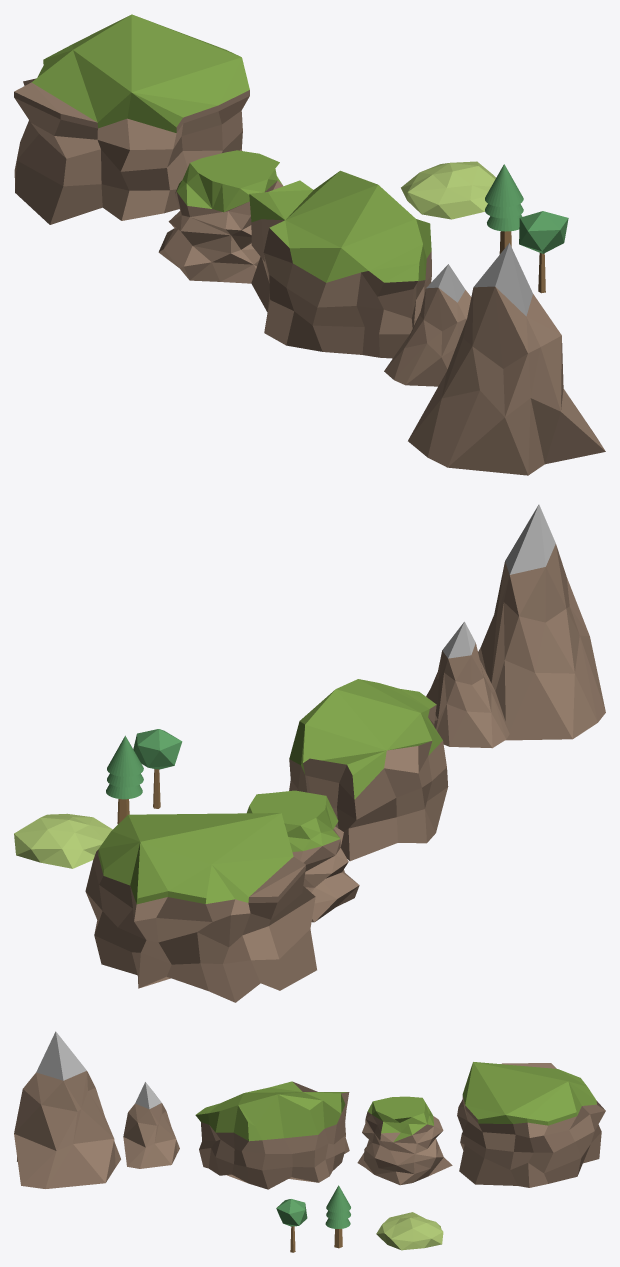
File: bukit aset pisah.fbx
3 views of the same model, one above another, from view 1: azimuth 30°, elevation 25°; view 2: azimuth 150°, elevation 25°; view 3: azimuth 270°, elevation 25° (orthographic). The views are drawn at different scales.
Visible parts, largest first — view 1: Plane.002, Plane, mini gunung, gunung 2, mini gunung.001, Icosphere.001, Cone.003, pohon; view 2: Plane.002, Plane, mini gunung, gunung 2, mini gunung.001, Icosphere.001, Cone.003, pohon; view 3: Plane.002, Plane, mini gunung, gunung 2, mini gunung.001, Icosphere.001, Cone.003, pohon.
Boxes of the visible parts, left/top/right/bottom form: Plane.002: left=14, top=14, right=249, bottom=224; Plane: left=249, top=170, right=431, bottom=358; mini gunung: left=408, top=243, right=605, bottom=475; gunung 2: left=158, top=150, right=283, bottom=283; mini gunung.001: left=384, top=264, right=471, bottom=386; Icosphere.001: left=401, top=161, right=495, bottom=219; Cone.003: left=485, top=164, right=523, bottom=254; pohon: left=519, top=211, right=568, bottom=293; Plane.002: left=85, top=813, right=316, bottom=1002; Plane: left=289, top=679, right=448, bottom=861; mini gunung: left=478, top=504, right=605, bottom=740; gunung 2: left=247, top=790, right=359, bottom=922; mini gunung.001: left=426, top=621, right=509, bottom=748; Icosphere.001: left=14, top=813, right=112, bottom=868; Cone.003: left=106, top=735, right=143, bottom=823; pohon: left=133, top=729, right=182, bottom=808; Plane.002: left=457, top=1062, right=605, bottom=1187; Plane: left=195, top=1081, right=349, bottom=1189; mini gunung: left=14, top=1031, right=120, bottom=1188; gunung 2: left=357, top=1096, right=452, bottom=1185; mini gunung.001: left=123, top=1082, right=179, bottom=1168; Icosphere.001: left=376, top=1212, right=443, bottom=1250; Cone.003: left=325, top=1185, right=350, bottom=1248; pohon: left=276, top=1199, right=307, bottom=1252.
Bounding box in the file's own units: 2038 × 1217 × 4284.
